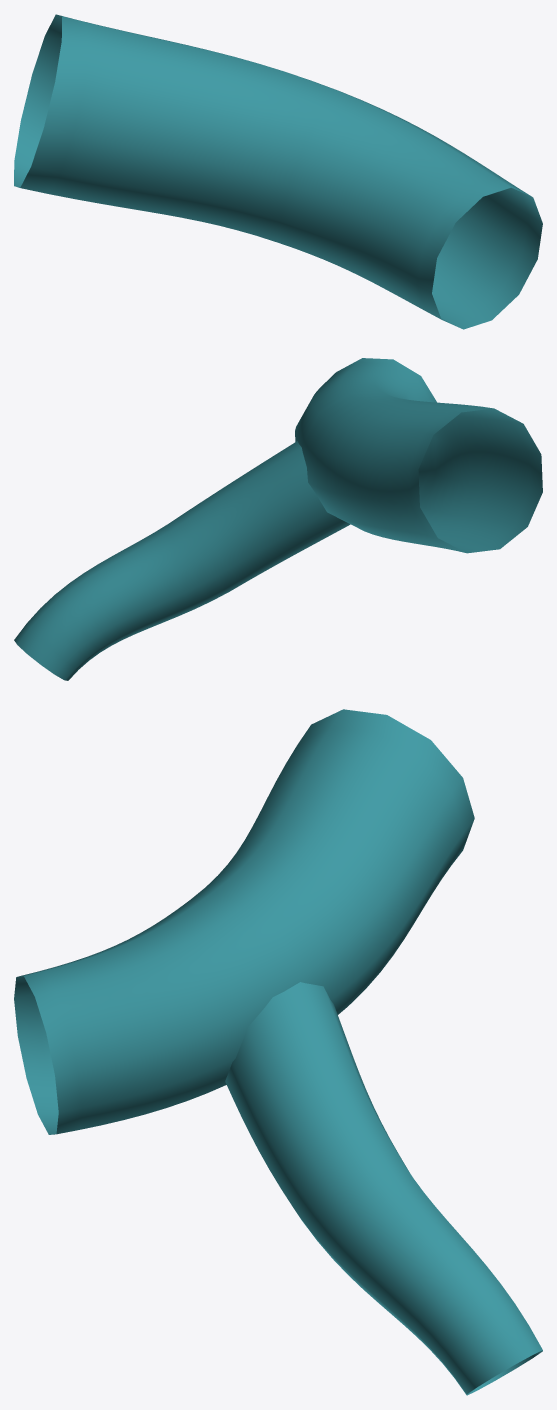
3 renders of one model, top to bottom at view 1: azimuth 30°, elevation 25°; view 2: azimuth 150°, elevation 25°; view 3: azimuth 270°, elevation 25°, orthographic. The views are drawn at different scales.
Parts seen in each view (by area): view 1: 左肺上叶支气管; view 2: 左肺上叶支气管; view 3: 左肺上叶支气管.
Boxes of the visible parts, <box> form: 左肺上叶支气管: <box>14,14,542,329</box>; 左肺上叶支气管: <box>14,358,542,680</box>; 左肺上叶支气管: <box>14,709,542,1395</box>.
Size of the model in its own units: 0.0685 by 0.047 by 0.0513.
